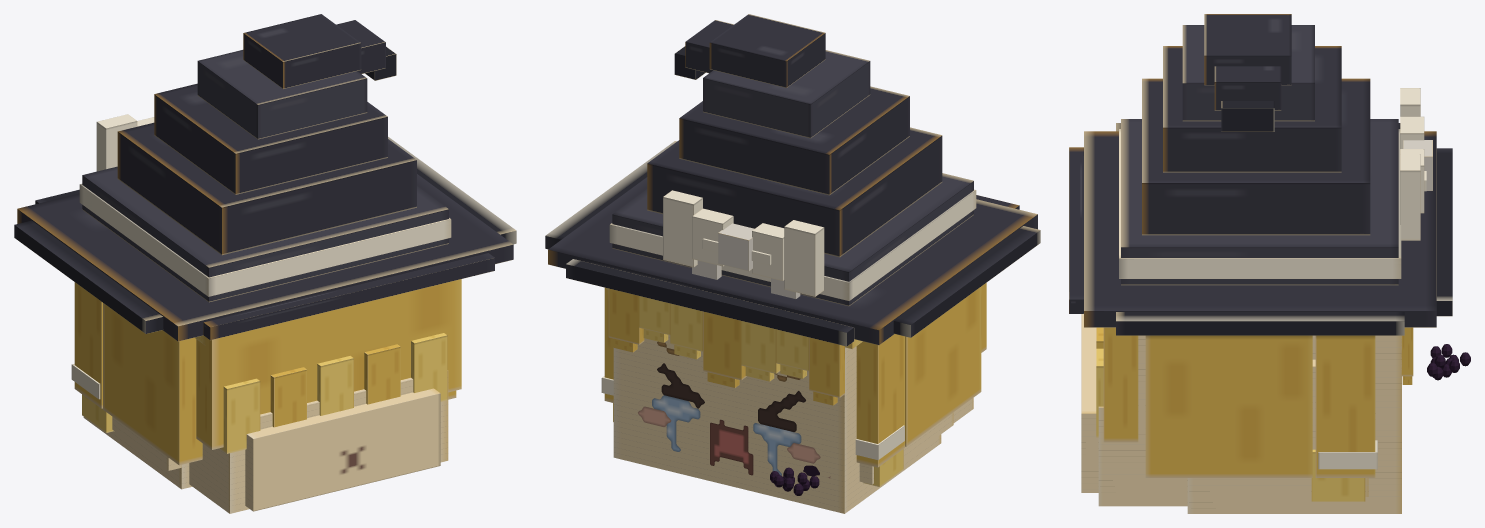
Rendered from leak_marisa_2.obj.
The picture shows the model from 3 angles, left to right: view 1: azimuth 30°, elevation 25°; view 2: azimuth 150°, elevation 25°; view 3: azimuth 270°, elevation 25°; orthographic projection. The views are drawn at different scales.
Parts seen in each view (by area): view 1: leak_marisa_2; view 2: leak_marisa_2; view 3: leak_marisa_2.
Part boxes in pixels (x1=…): leak_marisa_2: x1=14, y1=14, x2=516, y2=513; leak_marisa_2: x1=545, y1=14, x2=1040, y2=513; leak_marisa_2: x1=1069, y1=14, x2=1470, y2=513.
Bounding box in the file's own units: 19 × 19.34 × 16.26.
Materials: 1 (1 with a texture image).
